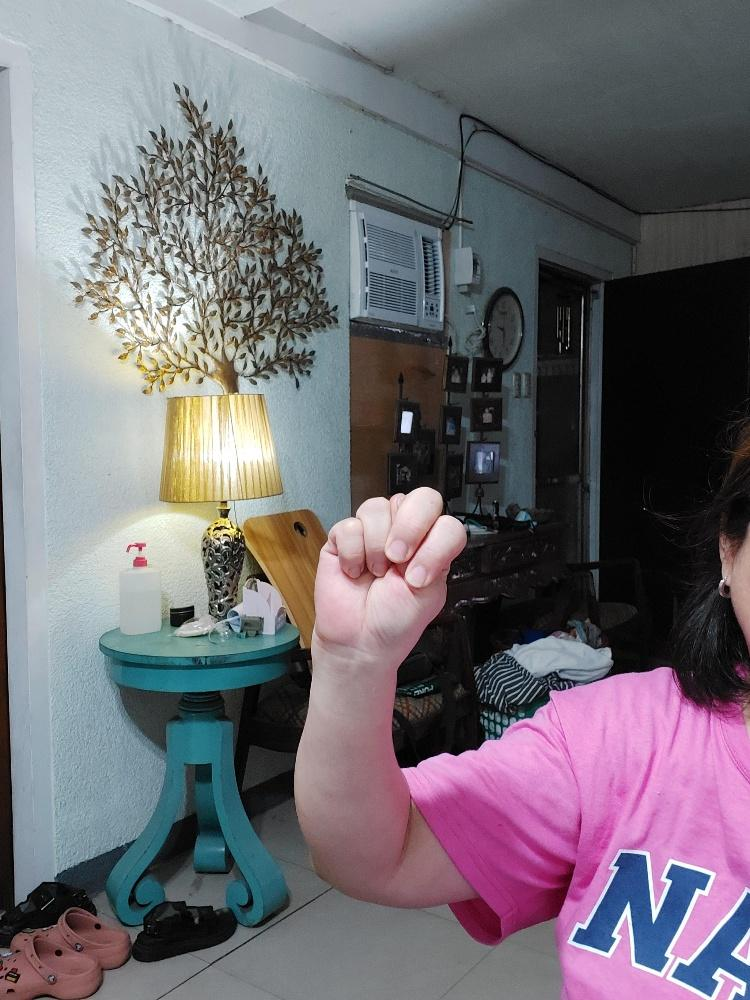n: (312, 484, 467, 658)
